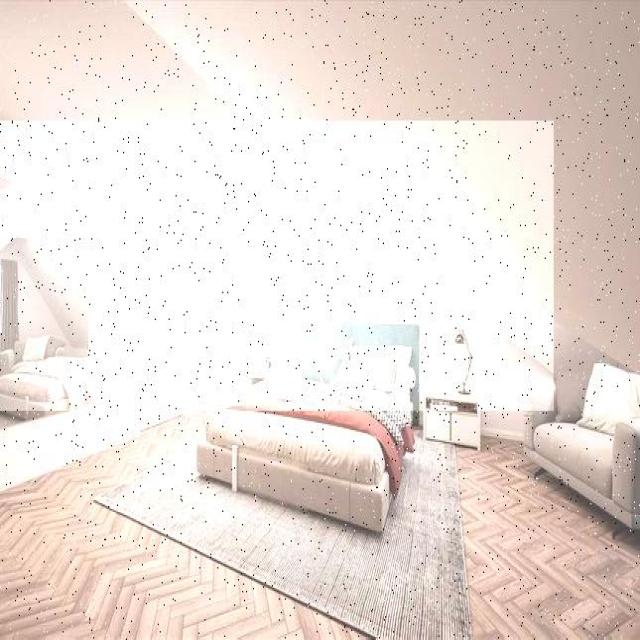Wall: (0, 1, 640, 388), (0, 121, 554, 490), (0, 412, 640, 639)
